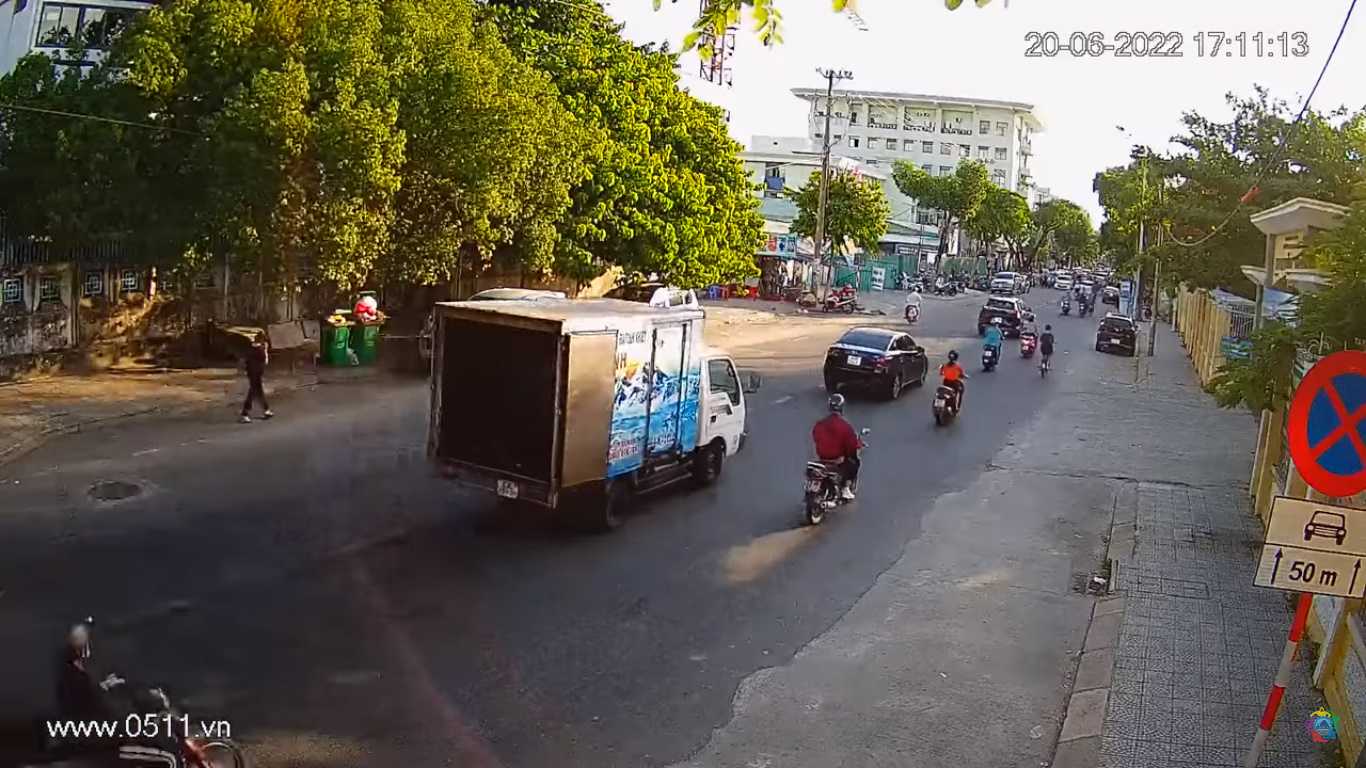car: (822, 329, 929, 400)
truck: (425, 282, 748, 533)
